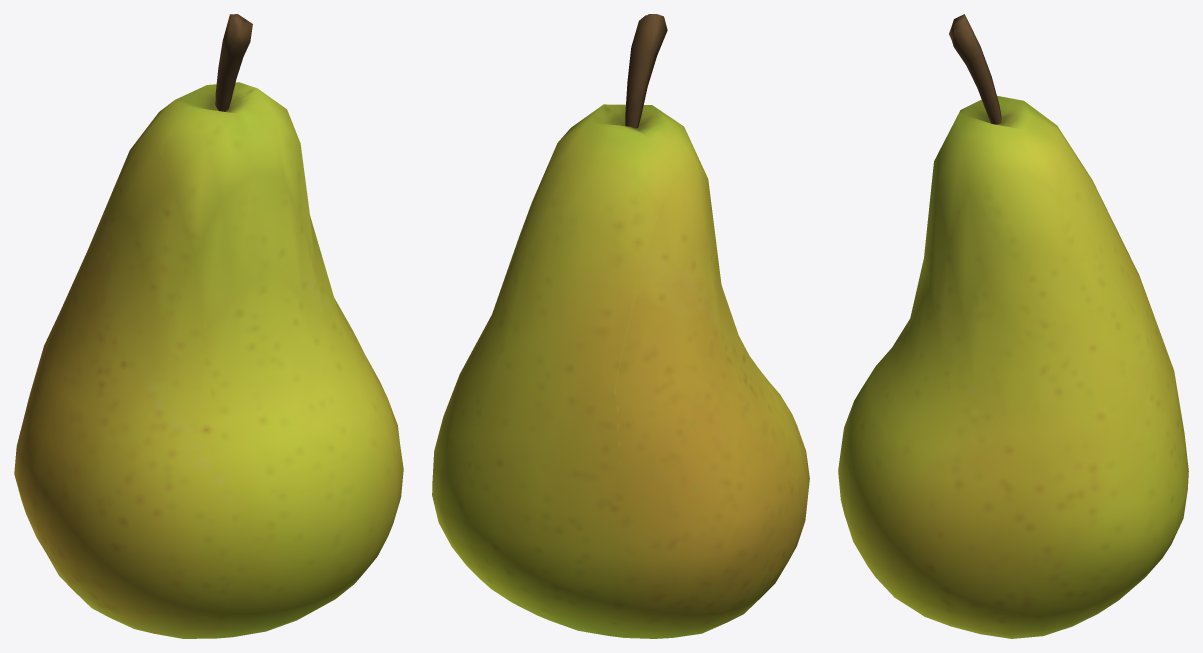
File: Pear.fbx
3 views of the same model, side by side, from view 1: azimuth 30°, elevation 25°; view 2: azimuth 150°, elevation 25°; view 3: azimuth 270°, elevation 25° (orthographic). The views are drawn at different scales.
Parts seen in each view (by area): view 1: Pear_LOD0; view 2: Pear_LOD0; view 3: Pear_LOD0.
Boxes of the visible parts, box(x1,y1,x2,y2) form: Pear_LOD0: box(14, 14, 403, 638); Pear_LOD0: box(432, 14, 809, 638); Pear_LOD0: box(838, 14, 1188, 638).
Size of what is drawn, in the model's own units: 0.0756 by 0.135 by 0.0723.
